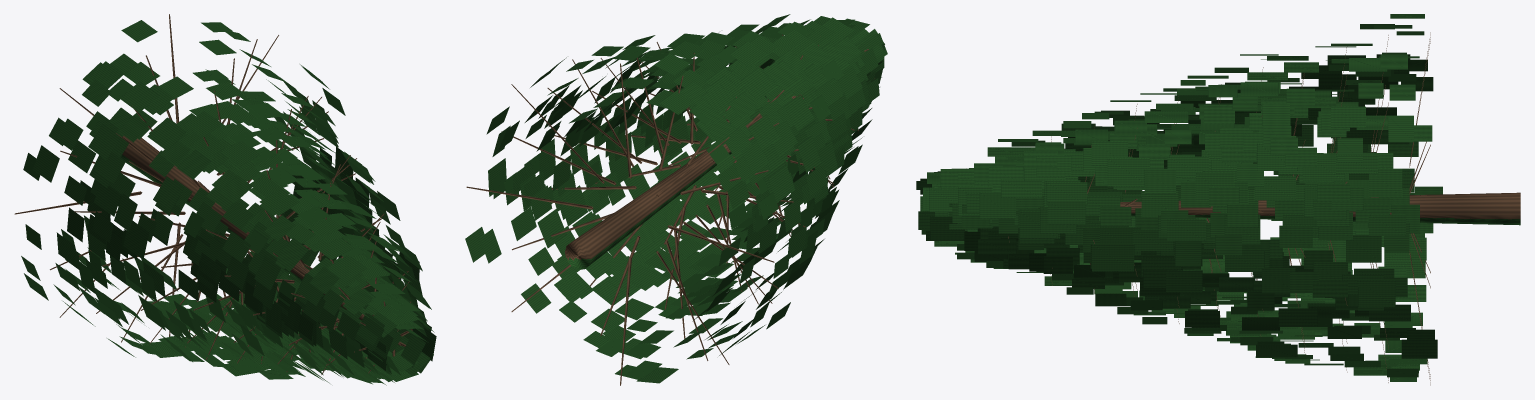
The model's file is veg_conifer_pine_01.obj.
The picture shows the model from 3 angles, left to right: view 1: azimuth 30°, elevation 25°; view 2: azimuth 150°, elevation 25°; view 3: azimuth 270°, elevation 25°; orthographic projection. The views are drawn at different scales.
Visible parts, largest first — view 1: veg_conifer_pine_01; view 2: veg_conifer_pine_01; view 3: veg_conifer_pine_01.
Boxes of the visible parts, box(x1,y1,x2,y2) form: veg_conifer_pine_01: box(14, 14, 436, 385); veg_conifer_pine_01: box(465, 14, 887, 385); veg_conifer_pine_01: box(916, 14, 1520, 385).
Bounding box in the file's own units: 5.92 × 5.99 × 9.5.
Materials: 1 (1 with a texture image).
